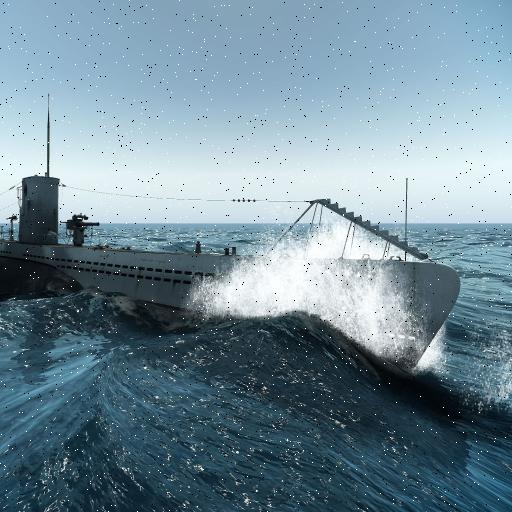submarine: (1, 89, 462, 401)
